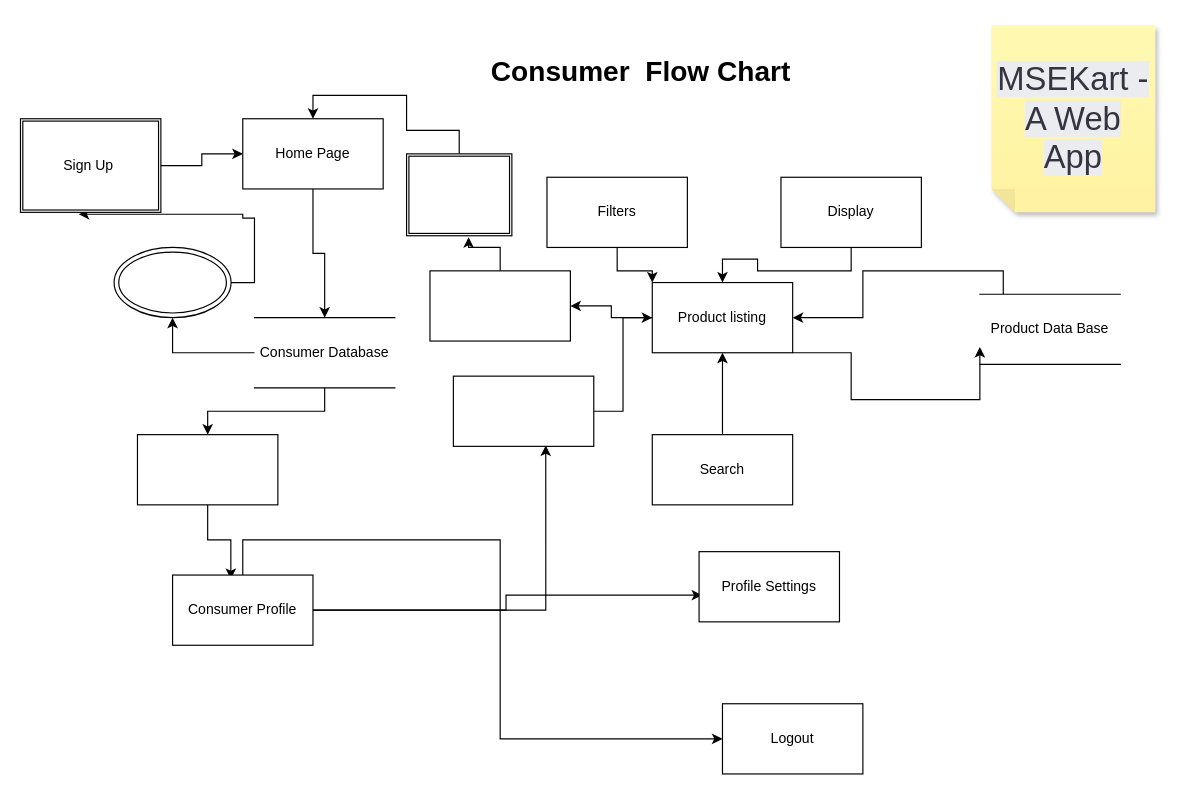
Image size: 1183x794. Some labels were removed from this diagram. Each missing label, with the centre of its shape:
Checkout: [499,305]
If not Exist: [172,282]
Login: [207,469]
OrdercSuccess: [458,194]
Search Interface: [523,410]
